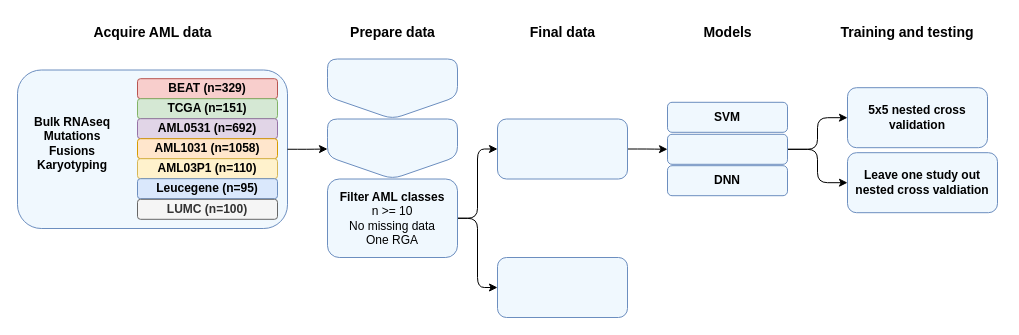
Some shapes in this 1019 by 335 pixel diagram are drawn without their labels. Here are the shapes that lost their labels. From the top down, the centre of each, then its label:
At point (392, 88): "Harmonise".
At point (392, 148): "Assign AML classes".
At point (562, 148): "Included (n=2246) 16 classes to predict".
At point (727, 148): "XGBoost".
At point (562, 287): "Excluded (n=588)".
